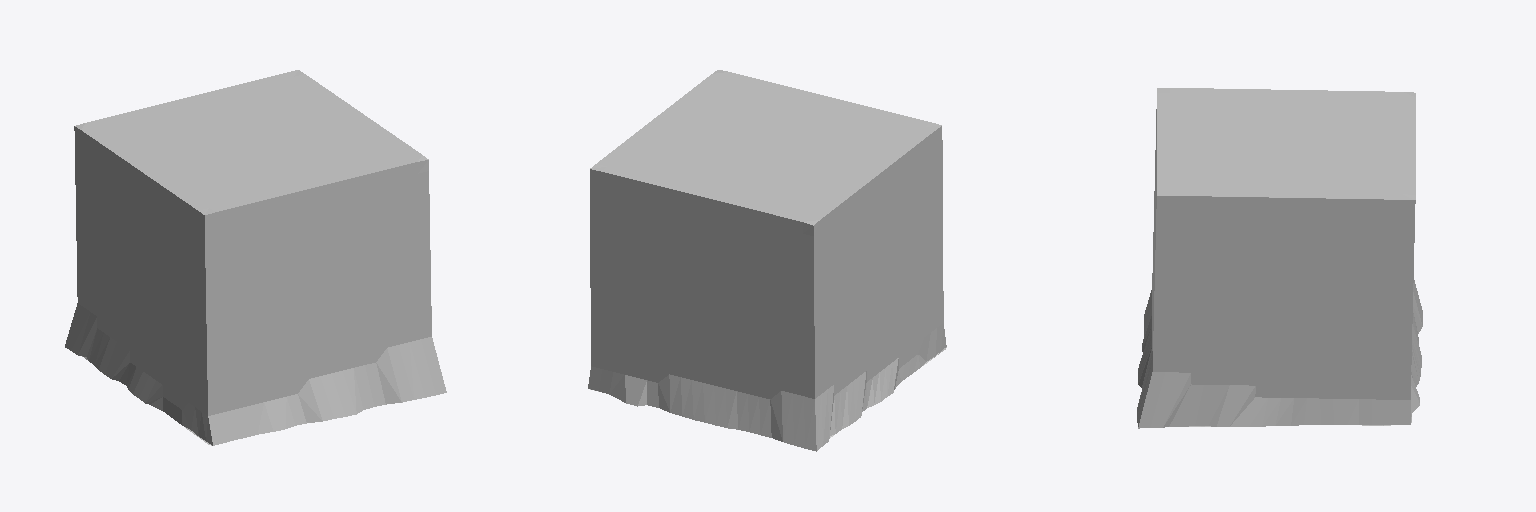
Rendered from mod0014.obj.
The picture shows the model from 3 angles: view 1: azimuth 30°, elevation 25°; view 2: azimuth 150°, elevation 25°; view 3: azimuth 270°, elevation 25°; orthographic projection.
Visible parts, largest first — view 1: Box001; view 2: Box001; view 3: Box001.
Boxes of the visible parts, box(x1,y1,x2,y2) form: Box001: box(65, 70, 446, 445); Box001: box(588, 70, 946, 451); Box001: box(1137, 88, 1422, 428).
Bounding box in the file's own units: 0.5799 × 0.5291 × 0.5979.